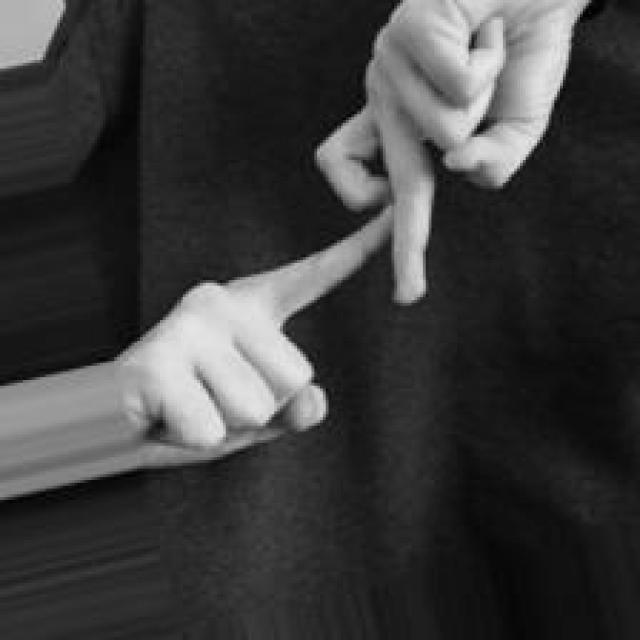R: (143, 0, 577, 457)
